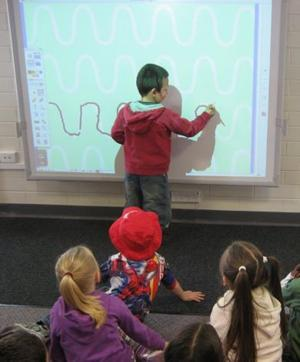person: (112, 65, 215, 218)
